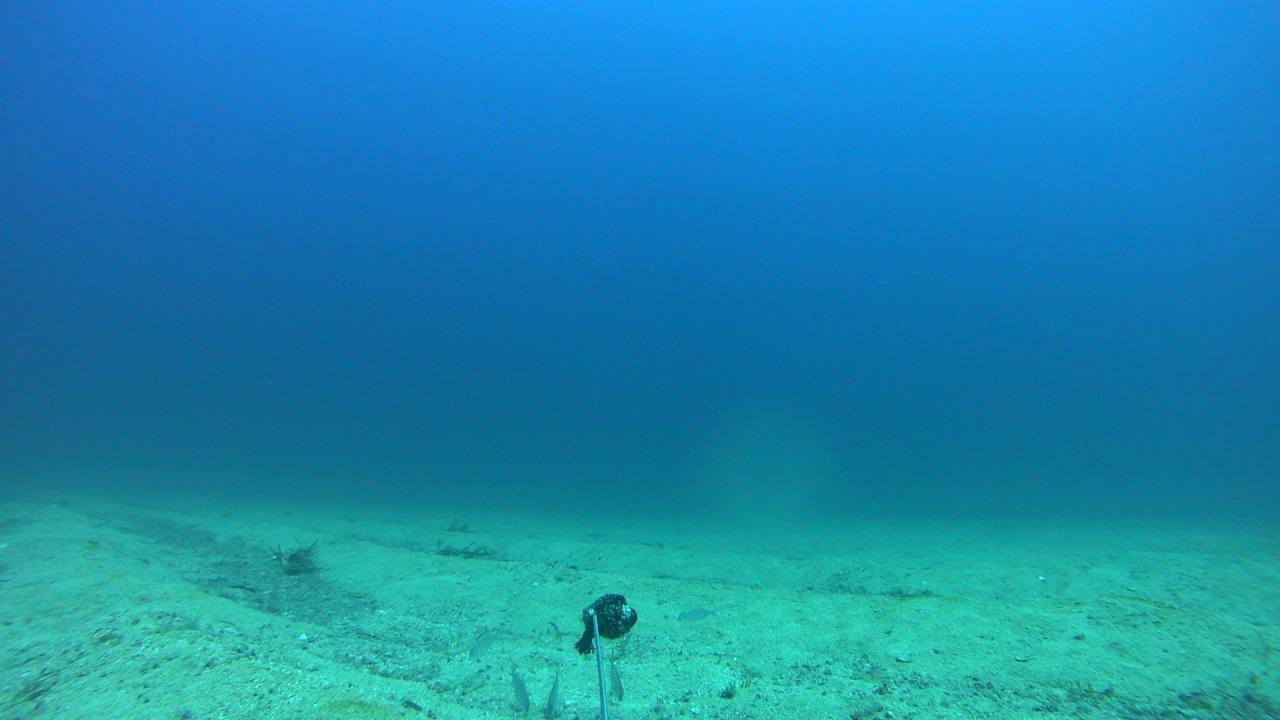pagellus: (468, 623, 503, 667), (508, 665, 528, 711), (612, 654, 628, 702), (678, 607, 718, 621), (546, 678, 558, 719)
